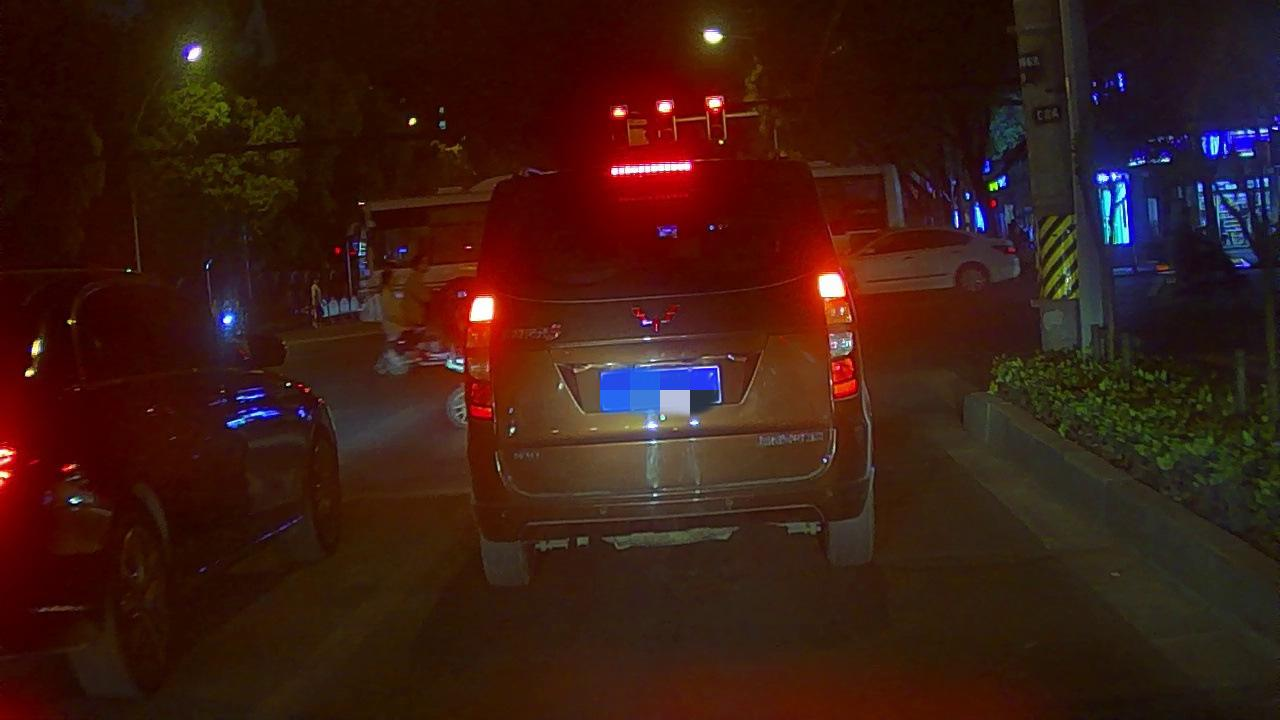traffic_light: (708, 96, 726, 141), (611, 105, 630, 147), (657, 99, 674, 143)
